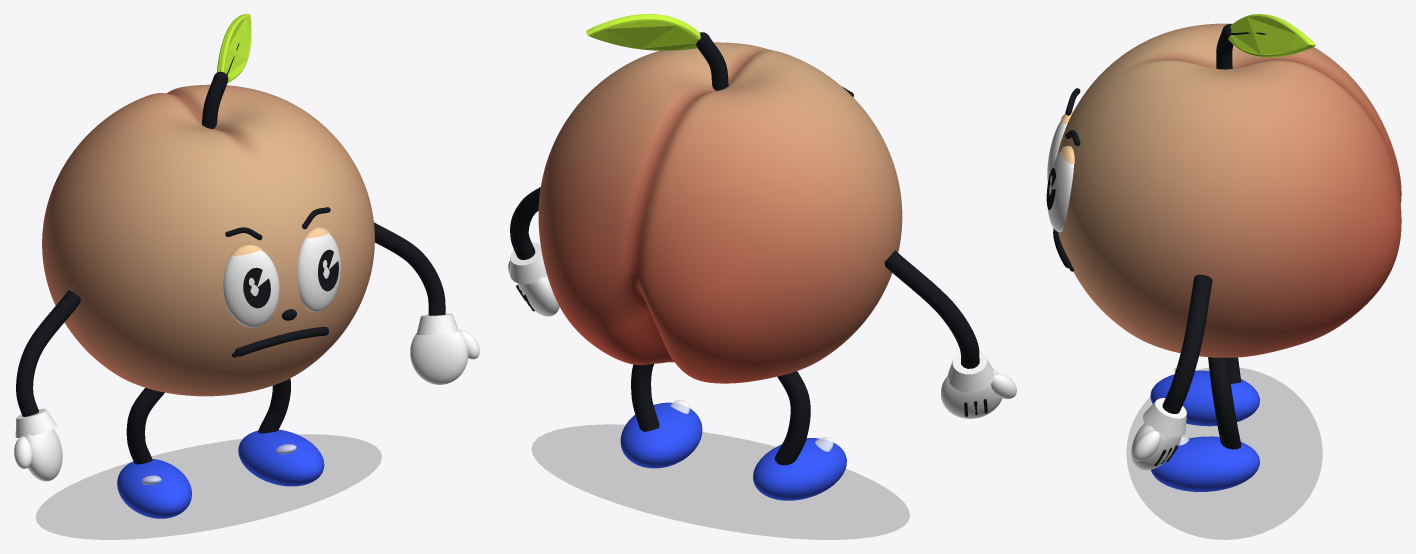
Rendered from durazno-popowash-cara-1.glb.
3 renders of one model, left to right at view 1: azimuth 30°, elevation 25°; view 2: azimuth 150°, elevation 25°; view 3: azimuth 270°, elevation 25°, orthographic. The views are drawn at different scales.
Bounding box in the file's own units: 3.18 × 2.85 × 1.99.
